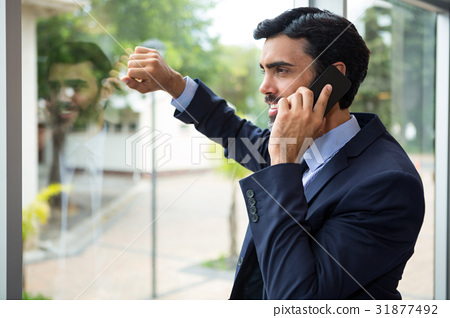phone: (302, 67, 348, 127)
talk: (239, 41, 356, 164)
